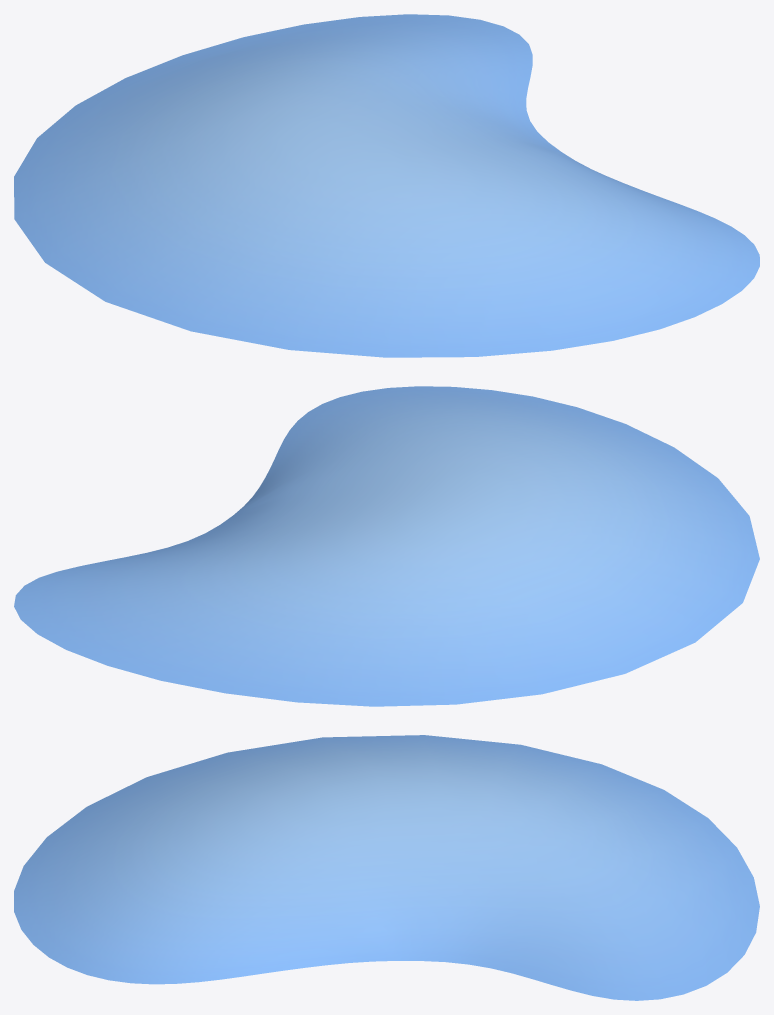
File: ground_007.glb
3 views of the same model, one above another, from view 1: azimuth 30°, elevation 25°; view 2: azimuth 150°, elevation 25°; view 3: azimuth 270°, elevation 25° (orthographic). The views are drawn at different scales.
Parts seen in each view (by area): view 1: ground_007; view 2: ground_007; view 3: ground_007.
Boxes of the visible parts, box(x1,y1,x2,y2) form: ground_007: box(14, 14, 759, 357); ground_007: box(14, 386, 759, 706); ground_007: box(14, 735, 759, 1000).
Bounding box in the file's own units: 21.6 × 2.28 × 25.61.
1 material, 1 textured.
